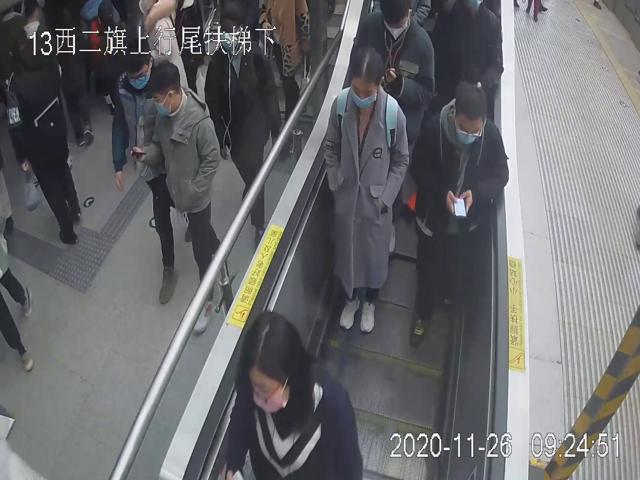person: (408, 80, 508, 339), (323, 47, 411, 337), (142, 60, 229, 336), (111, 36, 180, 304), (356, 0, 435, 143)
